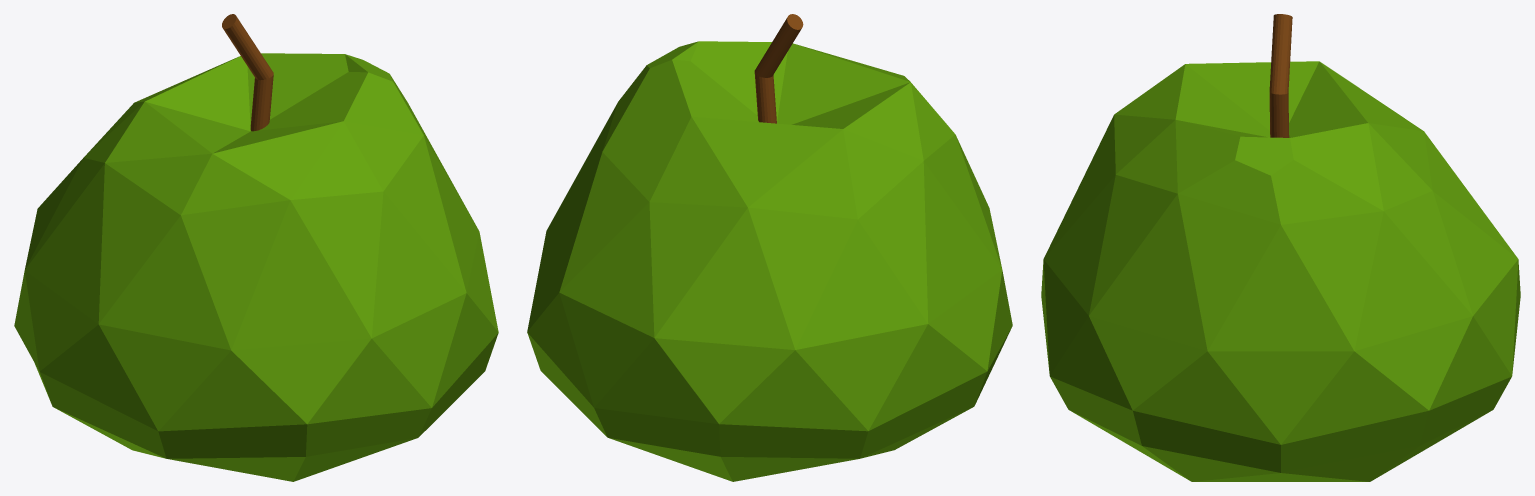
The model's file is Pear.fbx.
3 views of the same model, side by side, from view 1: azimuth 30°, elevation 25°; view 2: azimuth 150°, elevation 25°; view 3: azimuth 270°, elevation 25° (orthographic).
Parts seen in each view (by area): view 1: Pear - v1; view 2: Pear - v1; view 3: Pear - v1.
Part boxes in pixels (left/top/right/bottom): Pear - v1: left=14, top=14, right=498, bottom=481; Pear - v1: left=527, top=14, right=1012, bottom=481; Pear - v1: left=1041, top=14, right=1520, bottom=481.
Bounding box in the file's own units: 16 × 15 × 16.05.
